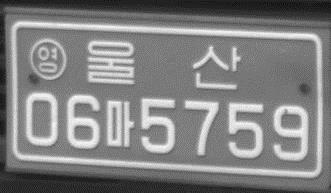0: (24, 90, 60, 146)
5: (225, 98, 265, 159), (137, 95, 177, 154)
6: (64, 91, 100, 150)
7: (182, 97, 221, 157)
9: (271, 102, 309, 163)
마: (104, 97, 135, 148)
영: (28, 37, 68, 80)
울산_D: (84, 37, 243, 92)
